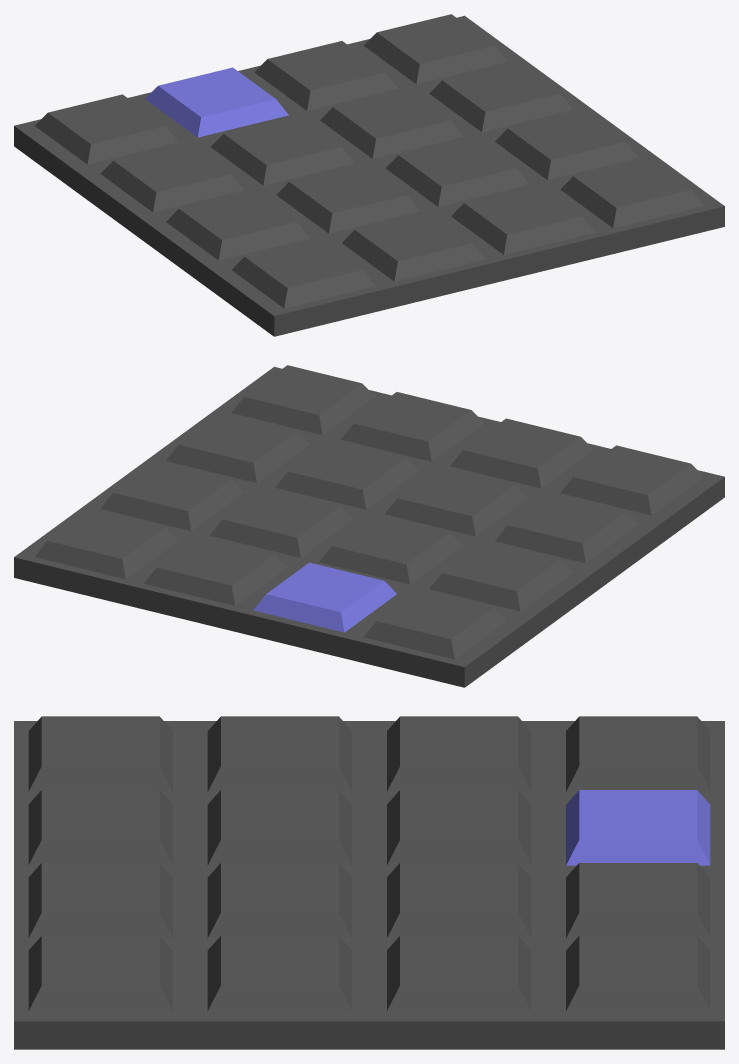
The model's file is Specific_floor.fbx.
3 renders of one model, top to bottom at view 1: azimuth 30°, elevation 25°; view 2: azimuth 150°, elevation 25°; view 3: azimuth 270°, elevation 25°, orthographic. The views are drawn at different scales.
Parts seen in each view (by area): view 1: Cube.001; view 2: Cube.001; view 3: Cube.001.
Boxes of the visible parts, <box> form: Cube.001: <box>14,14,724,336</box>; Cube.001: <box>14,365,724,687</box>; Cube.001: <box>14,716,724,1049</box>.
Size of the model in its own units: 400 by 30 by 400.
